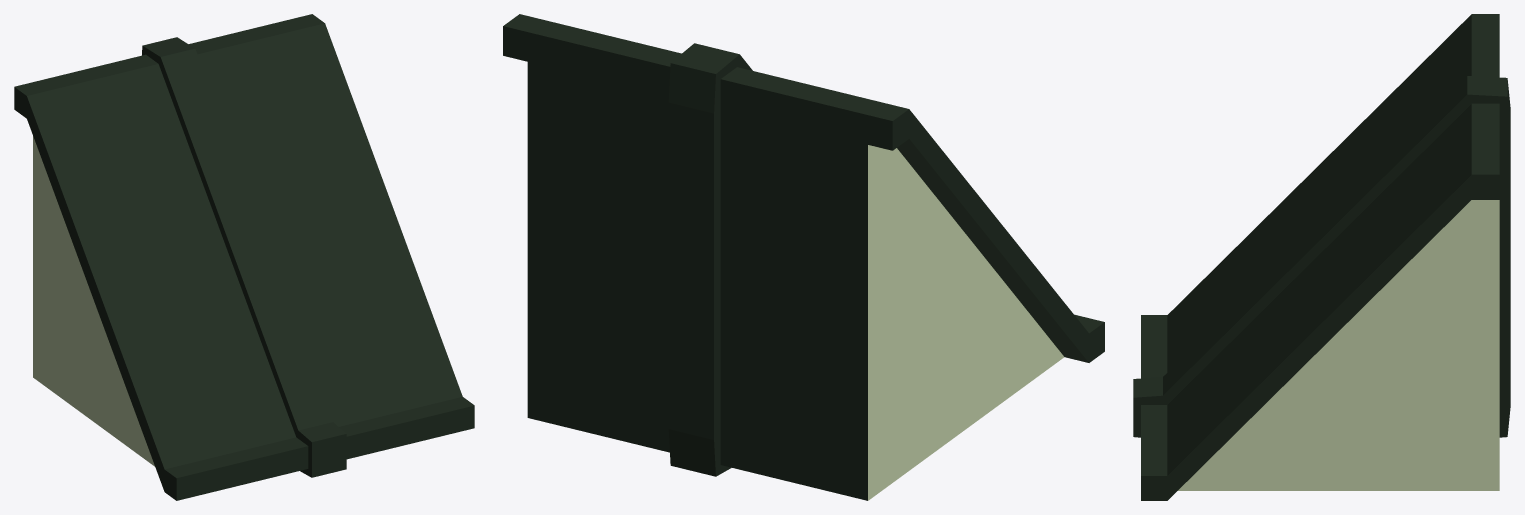
The model's file is LSRoof_3x3x3.fbx.
3 renders of one model, left to right at view 1: azimuth 30°, elevation 25°; view 2: azimuth 150°, elevation 25°; view 3: azimuth 270°, elevation 25°, orthographic. The views are drawn at different scales.
Visible parts, largest first — view 1: LSRoof_3x3x3; view 2: LSRoof_3x3x3; view 3: LSRoof_3x3x3.
Boxes of the visible parts, left/top/right/bottom form: LSRoof_3x3x3: left=14, top=14, right=474, bottom=500; LSRoof_3x3x3: left=503, top=14, right=1104, bottom=500; LSRoof_3x3x3: left=1133, top=14, right=1510, bottom=500.
Size of the model in its own units: 343 by 344 by 341.
